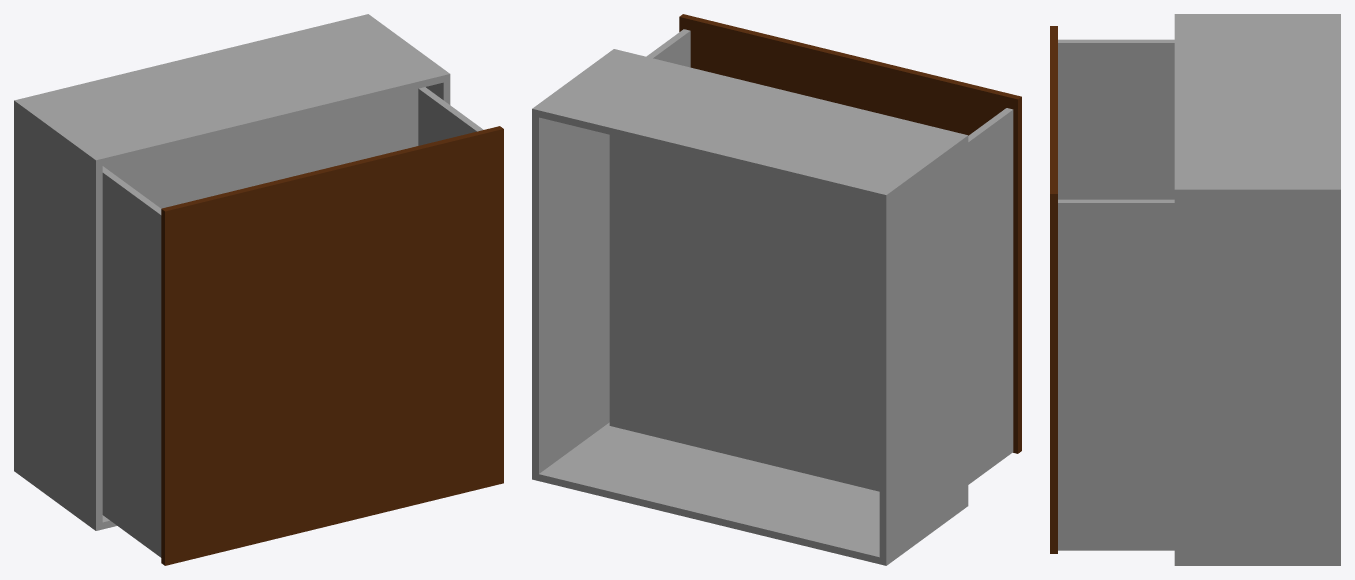
Rendered from meuble_68fb91c291965.glb.
3 renders of one model, left to right at view 1: azimuth 30°, elevation 25°; view 2: azimuth 150°, elevation 25°; view 3: azimuth 270°, elevation 25°, orthographic.
Parts seen in each view (by area): view 1: world; view 2: world; view 3: world.
Boxes of the visible parts, box(x1,y1,x2,y2) form: world: box(14, 14, 503, 565); world: box(532, 14, 1021, 565); world: box(1050, 14, 1340, 565).
Size of the model in its own units: 1 by 1 by 0.7.
1 material, 1 textured.
